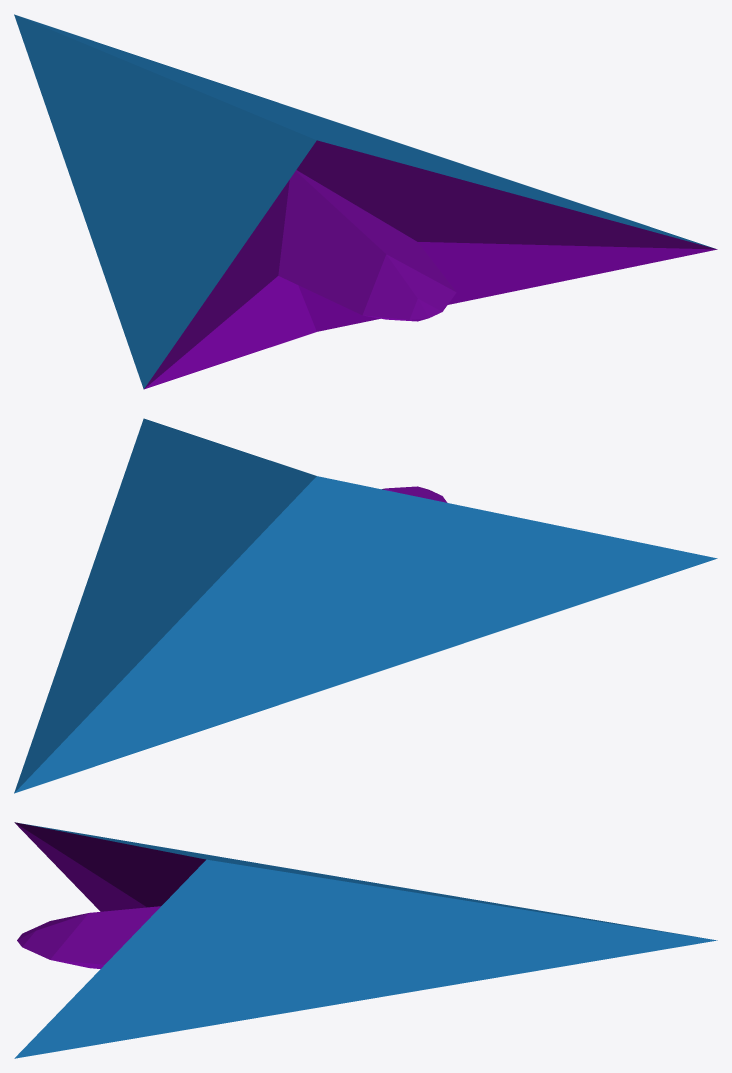
File: Cursor.glb
The picture shows the model from 3 angles, top to bottom: view 1: azimuth 30°, elevation 25°; view 2: azimuth 150°, elevation 25°; view 3: azimuth 270°, elevation 25°; orthographic projection. The views are drawn at different scales.
Visible parts, largest first — view 1: Cursor; view 2: Cursor; view 3: Cursor.
Boxes of the visible parts, x1,y1,x2,y2 form: Cursor: (14,14,717,389); Cursor: (14,418,717,793); Cursor: (14,822,717,1058).
Size of the model in its own units: 2.19 by 0.6979 by 2.75.
Materials: 1 (1 with a texture image).
